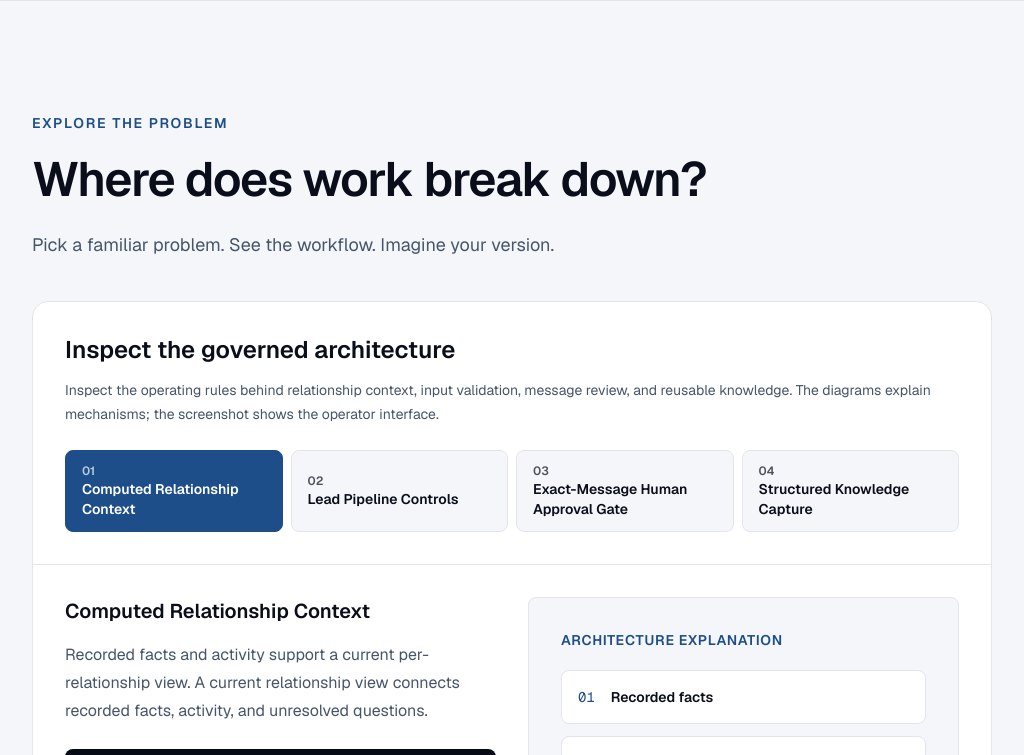
supports keyboard inspection of four architecture panels without replacing the business walkthrough
Press End in the tab "01 Computed Relationship Context", box 65,450 -> 282,532
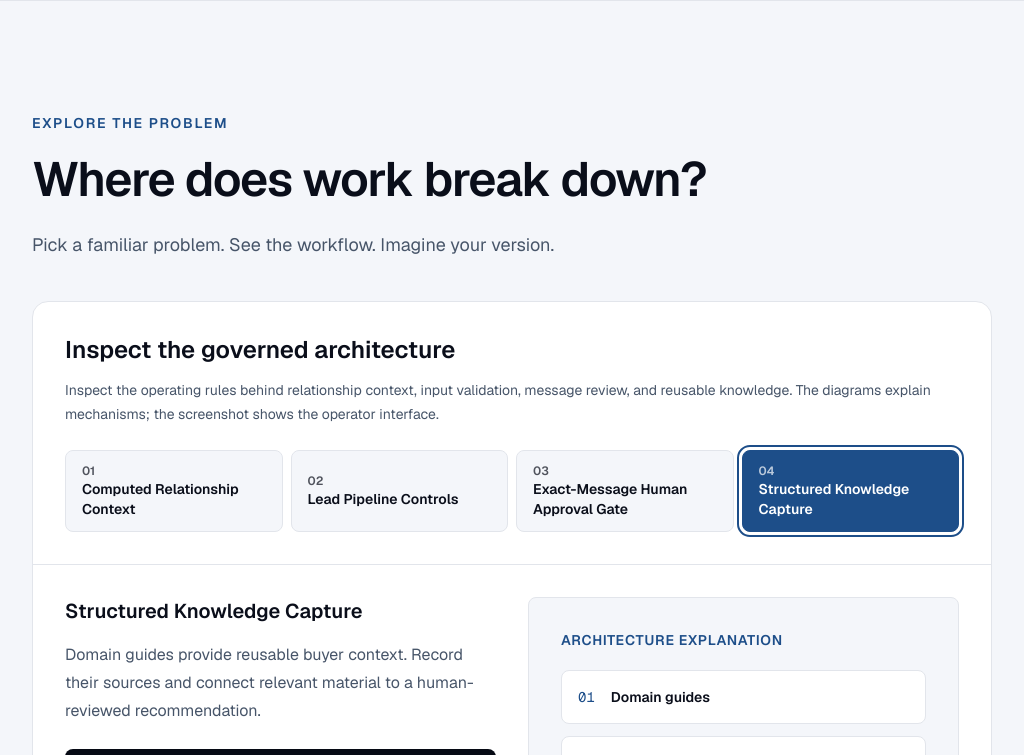
Click the tab "03 Exact-Message Human Approval Gate". click: (625, 491)
box: 516,450 -> 734,532
(page scrolled)
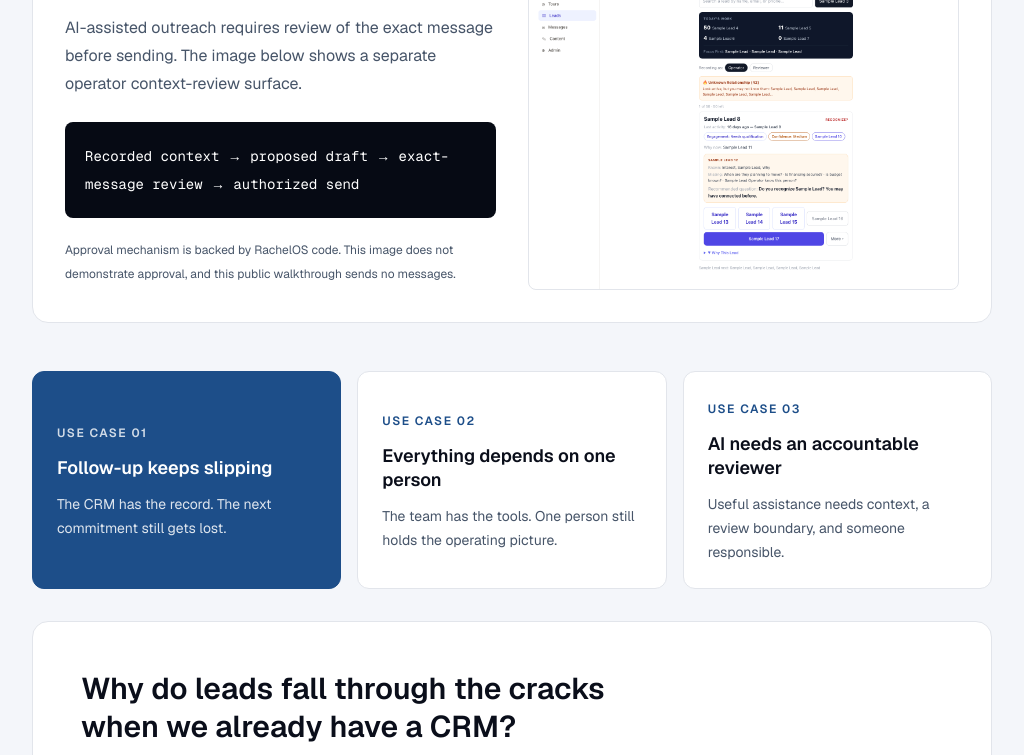
expect the button "Follow-up keeps slipping" is shown: met, box 32,371 -> 341,589
expect the panel shows "sends no messages": met, box 65,242 -> 456,282
